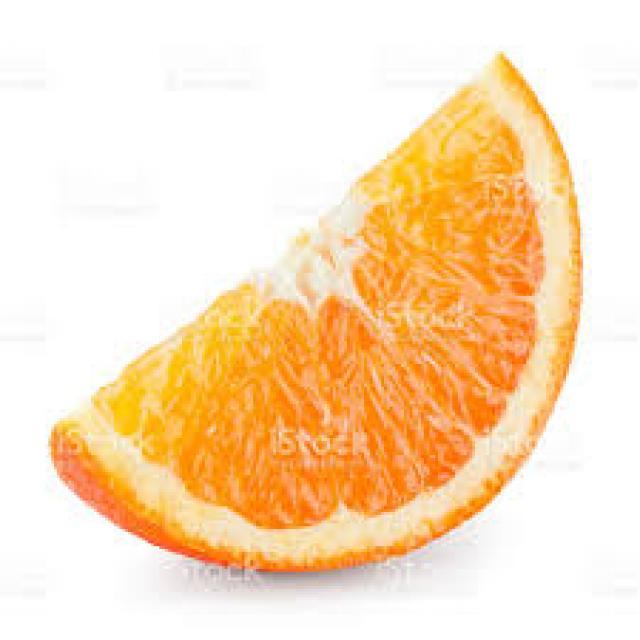organic waste: (46, 48, 580, 572)
